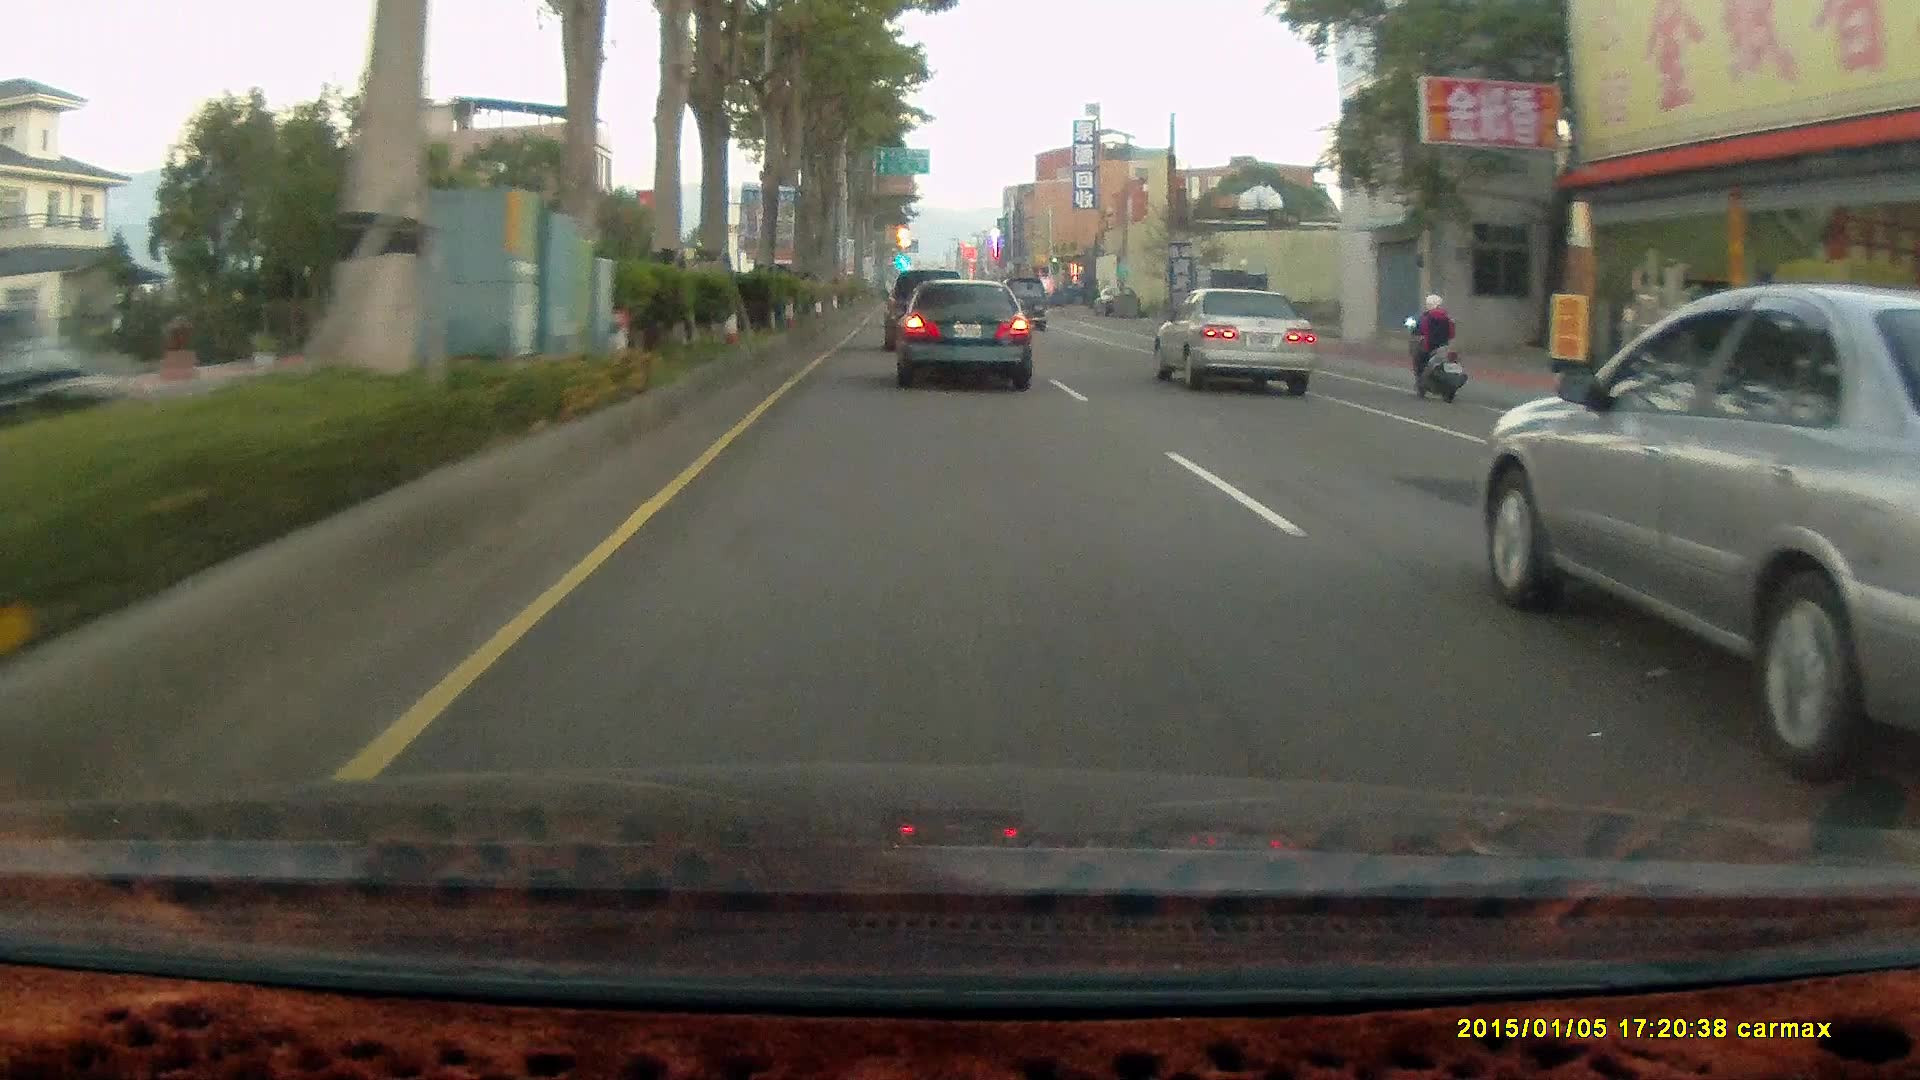rider: (1395, 286, 1475, 410), (1402, 286, 1467, 401)
vehicle: (1475, 284, 1920, 785), (1151, 286, 1314, 398), (1158, 293, 1315, 400), (895, 283, 1035, 398), (894, 288, 1034, 400), (1, 300, 89, 448), (884, 270, 973, 356), (884, 271, 966, 350), (1189, 278, 1269, 352), (1000, 281, 1047, 337)
